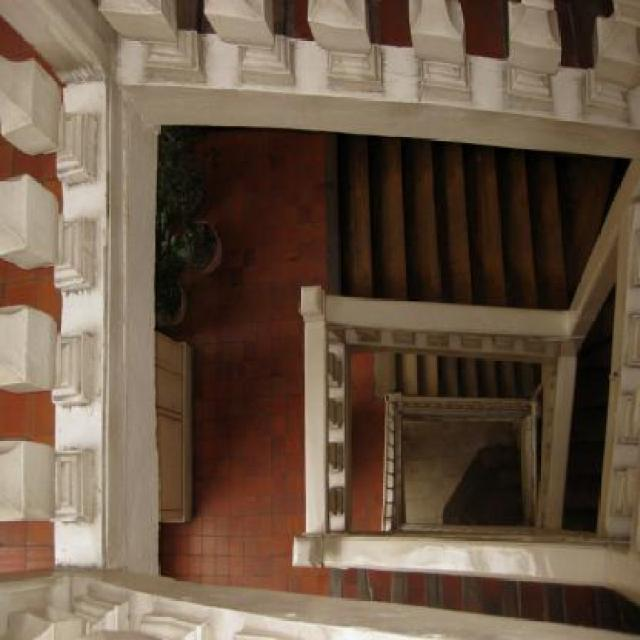stair: (289, 18, 640, 371)
